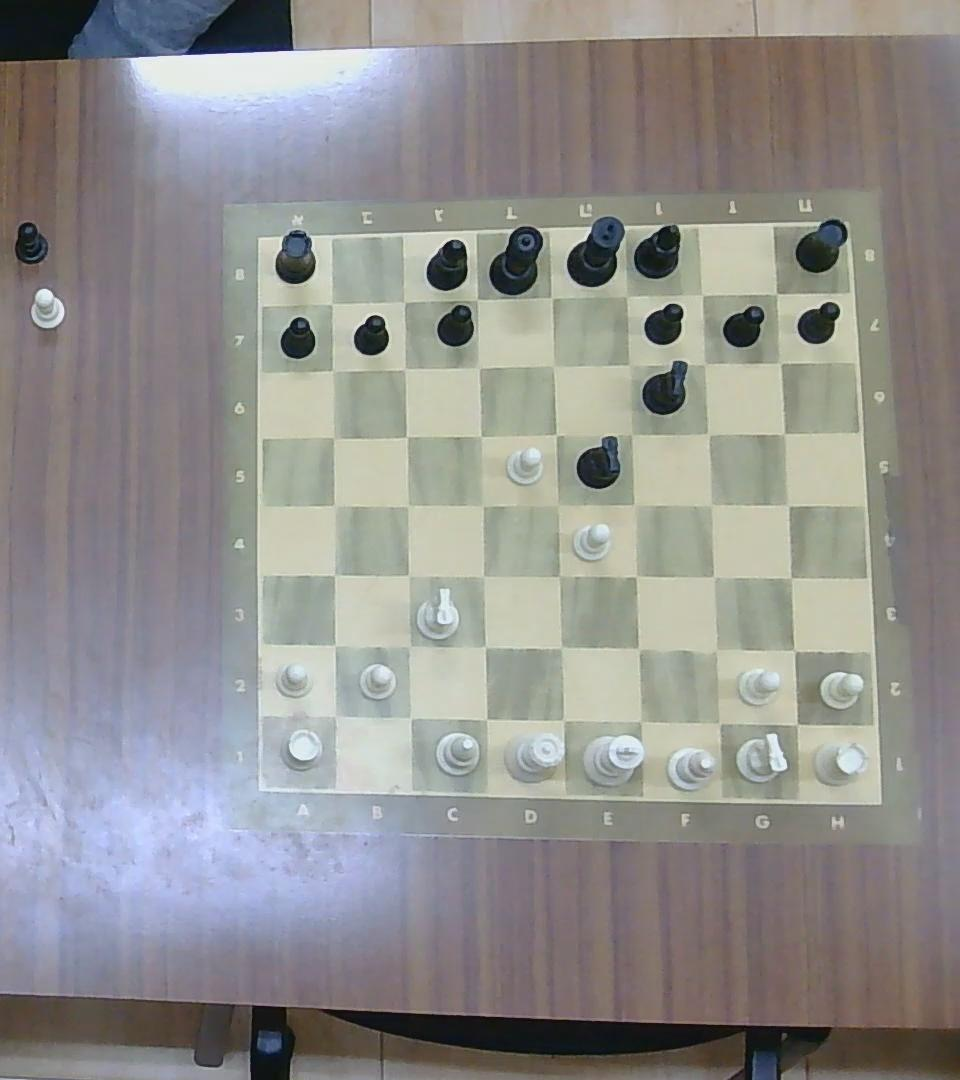xcorner: (621, 631, 654, 664), (701, 706, 735, 738), (624, 703, 656, 737), (545, 631, 577, 664), (780, 706, 812, 738), (470, 702, 501, 734), (469, 630, 500, 662), (547, 704, 578, 736), (699, 634, 731, 665), (393, 701, 424, 732), (775, 561, 806, 592), (777, 634, 808, 665), (468, 561, 498, 592), (698, 561, 728, 592), (319, 700, 350, 730), (544, 561, 574, 592), (621, 560, 651, 590), (393, 631, 423, 661), (620, 489, 650, 519), (320, 629, 349, 659), (616, 419, 645, 448), (393, 561, 423, 589), (320, 559, 348, 588), (773, 490, 802, 518), (543, 490, 572, 518), (469, 490, 497, 518), (697, 490, 725, 518), (320, 491, 349, 518), (537, 283, 566, 310), (615, 350, 644, 377), (393, 491, 421, 518), (542, 420, 570, 447), (463, 285, 491, 312), (318, 421, 345, 448), (612, 282, 640, 308), (318, 356, 345, 382), (771, 420, 798, 446), (540, 352, 566, 379), (317, 291, 345, 316), (393, 422, 419, 448), (467, 422, 492, 448), (763, 281, 789, 305), (696, 421, 720, 446), (767, 350, 792, 374), (691, 350, 715, 374), (466, 354, 490, 378), (390, 290, 415, 313), (391, 356, 415, 379), (690, 283, 714, 306)
